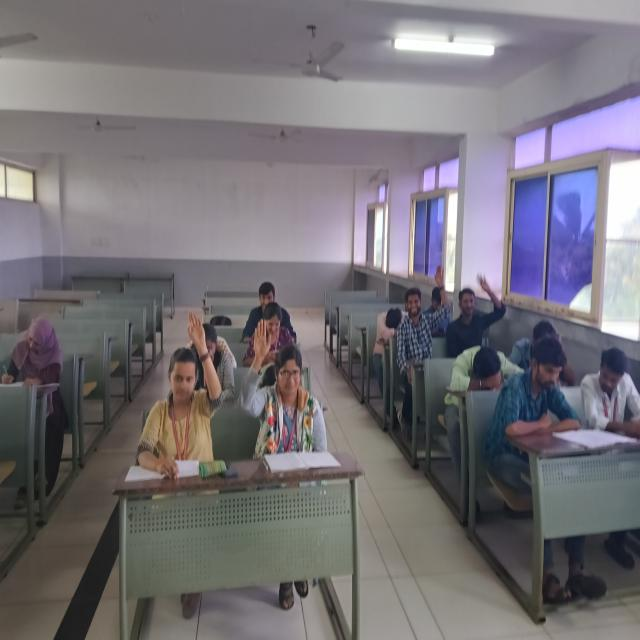Hand Rising: (142, 301, 234, 475), (245, 311, 320, 460)
Sleeping: (440, 328, 528, 432)
